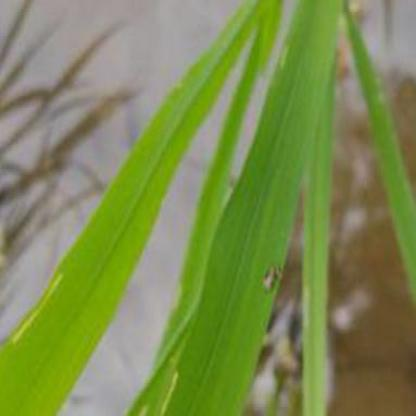rice-bug: (261, 255, 288, 292)
